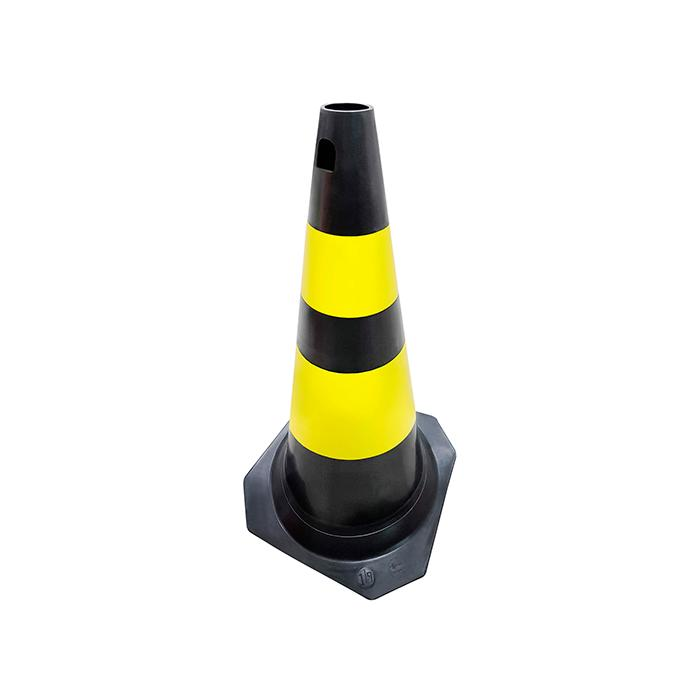traffic_cone: (242, 100, 457, 600)
